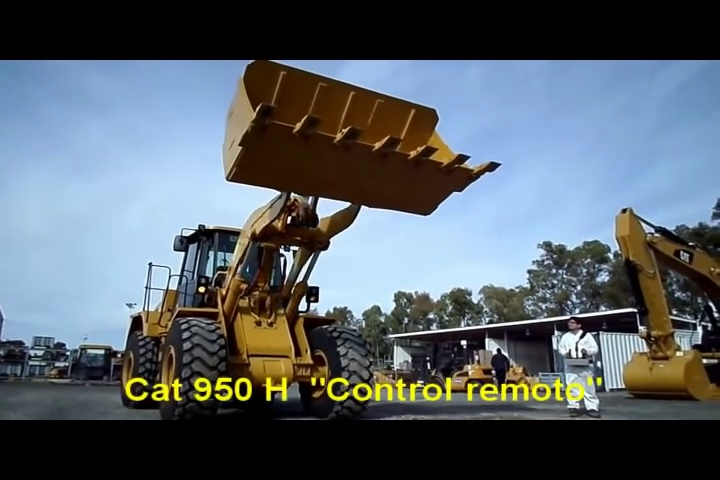excavator: (613, 205, 720, 404)
person: (559, 315, 603, 417), (490, 347, 513, 398)
wheel loader: (120, 58, 504, 422)
